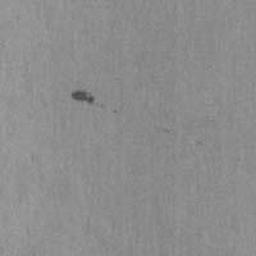Oil spot: (69, 88, 108, 110), (195, 140, 204, 147), (111, 108, 119, 115), (163, 127, 170, 134)
